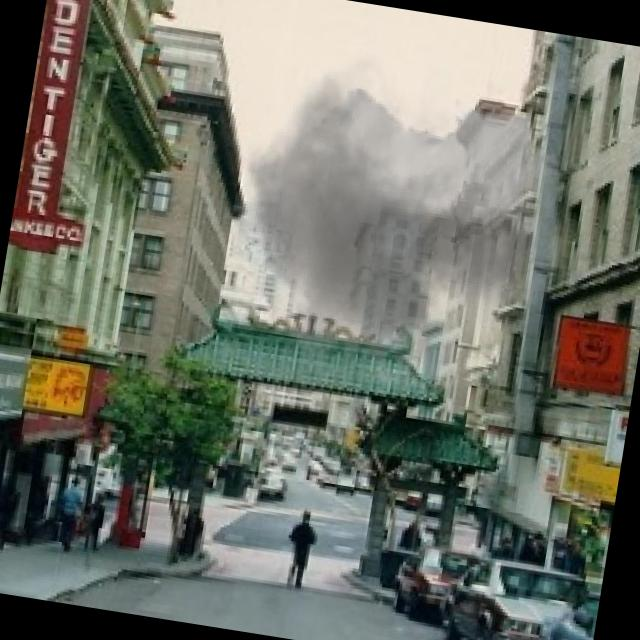Smoke: (186, 0, 600, 433)
